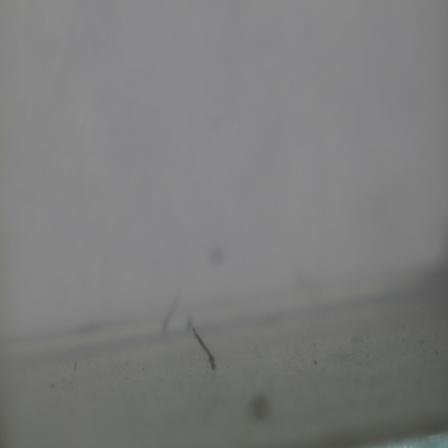Jentik-Nyamuk: (186, 320, 220, 373)
